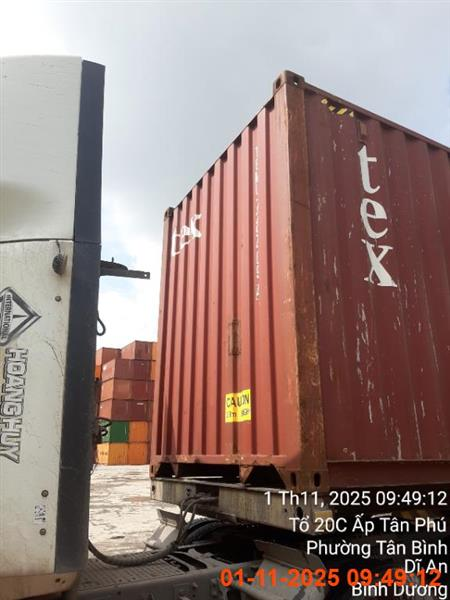hole: (142, 70, 449, 588)
